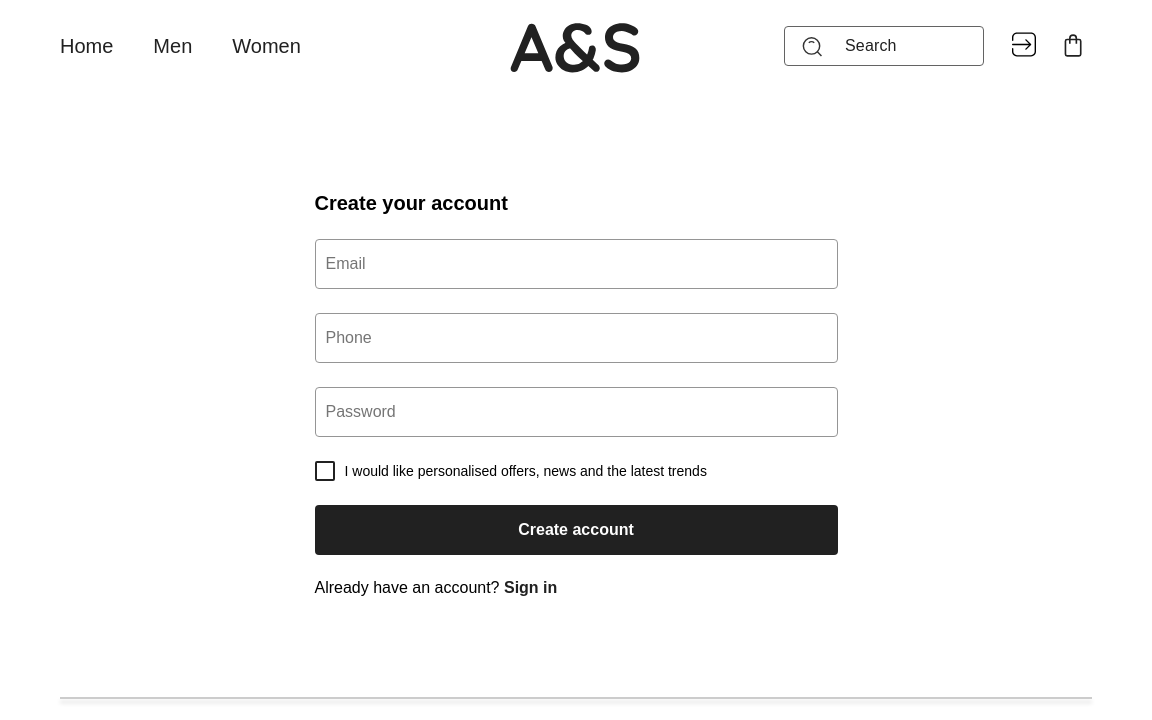
Test: Sign-Up Feature › shows validation errors for invalid inputs
Click the button "Create account" at (577, 530), box [315, 505, 838, 555]
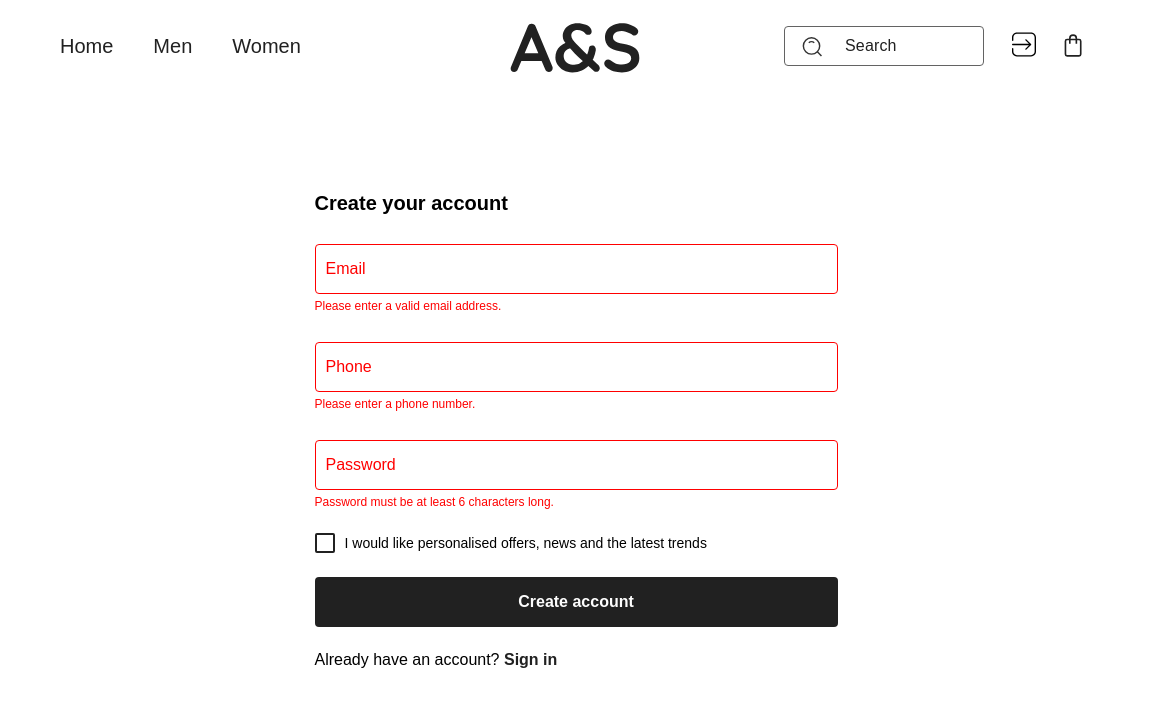
Result: the text "Please enter a valid email address." is shown at [314, 299, 501, 313]
Result: the text "Password must be at least 6 characters long." is shown at [314, 495, 554, 509]
Result: the text "Please enter a phone number." is shown at [314, 397, 475, 411]
